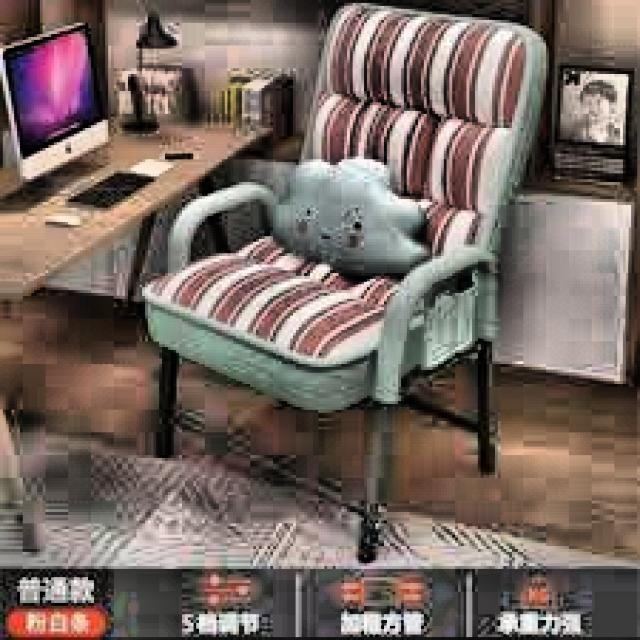cadeira: (144, 4, 556, 563)
